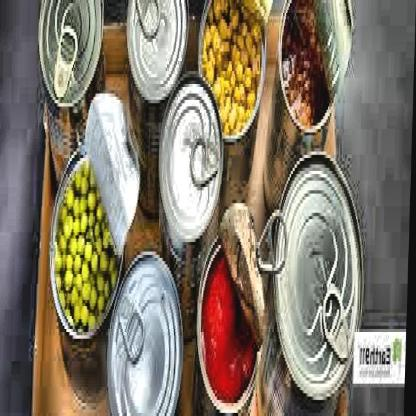Can: (254, 154, 366, 416), (107, 248, 187, 416), (157, 68, 225, 245), (34, 0, 110, 112), (122, 0, 192, 106)
